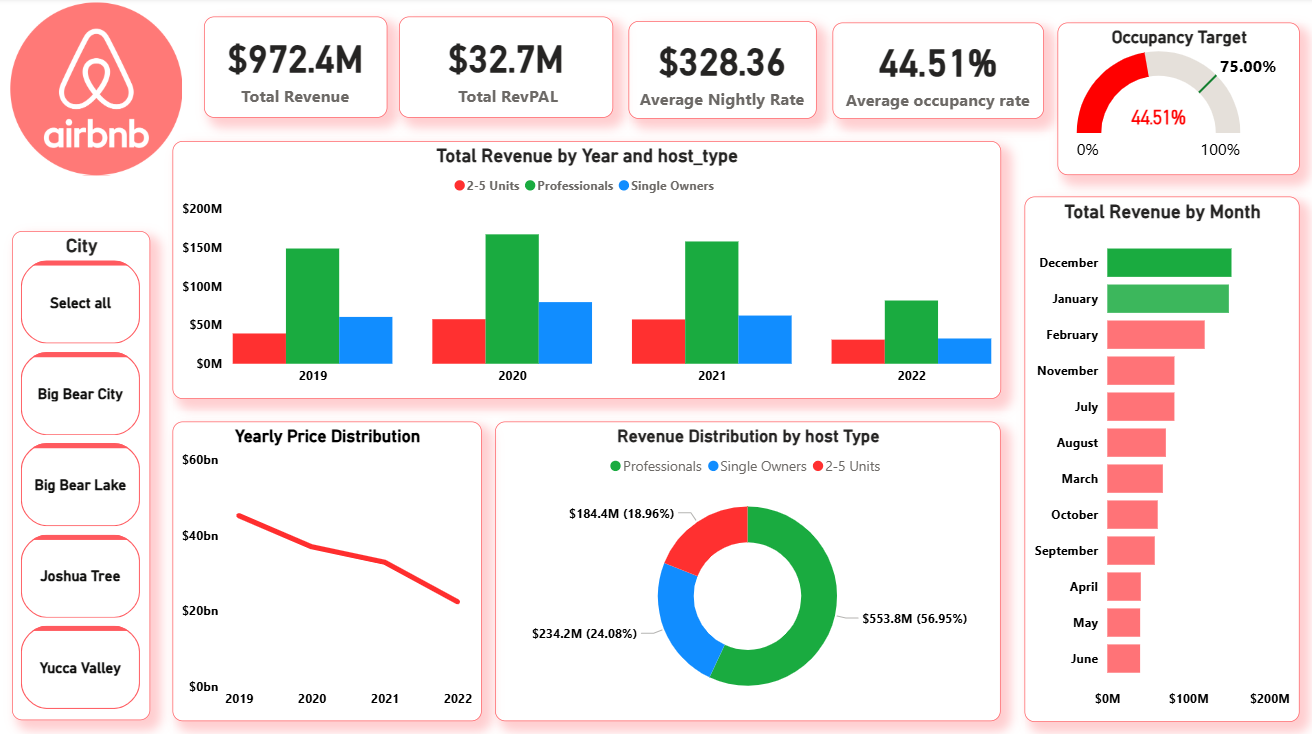

Layout of this report page (visuals, bound fields, positions):
{"tool":"powerbi","page":{"name":"Market Performance","canvas":[1280,720],"ordinal":0},"visuals":[{"type":"card","fields":{"Values":["Final_552 Codar_final_cleaned_d.Total Revenue"]},"box":[198.4,19.7,178.7,98.4],"z":0},{"type":"card","fields":{"Values":["Final_552 Codar_final_cleaned_d.New occupancy rate"]},"box":[811.6,24.2,205.9,93.9],"z":1000},{"type":"card","fields":{"Values":["Final_552 Codar_final_cleaned_d.Avg nightly rate"]},"box":[611.7,22.7,183.2,95.4],"z":2000},{"type":"card","fields":{"Values":["Sum(Final_552 Codar_final_cleaned_d.RevPAL)"]},"box":[389.2,19.7,209,98.4],"z":3000},{"type":"clusteredColumnChart","fields":{"Category":["Final_552 Codar_final_cleaned_d.month.Variation.Date Hierarchy.Year"],"Y":["Final_552 Codar_final_cleaned_d.Total Revenue"],"Series":["Final_552 Codar_final_cleaned_d.host_type"]},"box":[168.1,140.8,807.1,251.4],"z":4000},{"type":"clusteredBarChart","fields":{"Category":["Final_552 Codar_final_cleaned_d.month.Variation.Date Hierarchy.Month"],"Y":["Final_552 Codar_final_cleaned_d.Total Revenue"]},"box":[997.9,193.8,268,511.8],"z":5000},{"type":"advancedSlicerVisual","title":"City","fields":{"Values":["Final_552 Codar_final_cleaned_d.city"]},"box":[12.1,228.6,134.8,477],"z":6000},{"type":"image","box":[0,0,187.8,178.7],"z":7000},{"type":"donutChart","title":"Revenue Distribution by host Type","fields":{"Category":["Final_552 Codar_final_cleaned_d.host_type"],"Y":["Sum(Final_552 Codar_final_cleaned_d.revenue)"]},"box":[482.3,413.6,492.5,292.3],"z":8000},{"type":"lineChart","title":"Yearly Price Distribution","fields":{"Y":["Sum(Final_552 Codar_final_cleaned_d.price)"],"Category":["Final_552 Codar_final_cleaned_d.month.Variation.Date Hierarchy.Year"]},"box":[168.1,413.6,301.1,292.3],"z":9000},{"type":"gauge","title":"Occupancy Target","fields":{"TargetValue":["Final_552 Codar_final_cleaned_d.Target occupancy"],"Y":["Final_552 Codar_final_cleaned_d.New occupancy rate"]},"box":[1029.7,24.2,236.2,148.4],"z":10000}]}

Visuals, with their boxes in screenshot pixels (x1, y1, x2, y2), scaled from the page's 1280x720 canvas onto the 1312x734 screenshot:
card - Final_552 Codar_final_cleaned_d.Total Revenue: bbox=(203, 20, 387, 120)
card - Final_552 Codar_final_cleaned_d.New occupancy rate: bbox=(832, 25, 1043, 120)
card - Final_552 Codar_final_cleaned_d.Avg nightly rate: bbox=(627, 23, 815, 120)
card - Sum(Final_552 Codar_final_cleaned_d.RevPAL): bbox=(399, 20, 613, 120)
clusteredColumnChart - Final_552 Codar_final_cleaned_d.month.Variation.Date Hierarchy.Year x Final_552 Codar_final_cleaned_d.Total Revenue: bbox=(172, 144, 1000, 400)
clusteredBarChart - Final_552 Codar_final_cleaned_d.month.Variation.Date Hierarchy.Month x Final_552 Codar_final_cleaned_d.Total Revenue: bbox=(1023, 198, 1298, 719)
"City" advancedSlicerVisual: bbox=(12, 233, 151, 719)
image: bbox=(0, 0, 192, 182)
"Revenue Distribution by host Type" donutChart: bbox=(494, 422, 999, 720)
"Yearly Price Distribution" lineChart: bbox=(172, 422, 481, 720)
"Occupancy Target" gauge: bbox=(1055, 25, 1298, 176)
